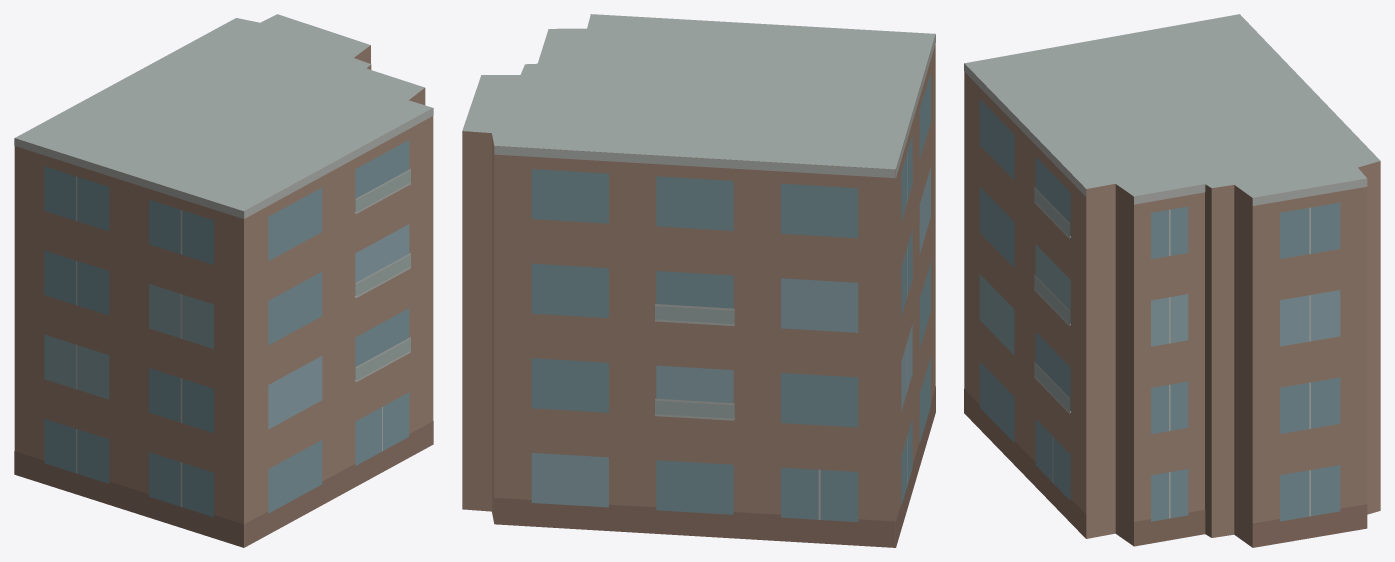
File: survey-upis-32461634.glb
The picture shows the model from 3 angles, left to right: view 1: azimuth 30°, elevation 25°; view 2: azimuth 150°, elevation 25°; view 3: azimuth 270°, elevation 25°; orthographic projection. The views are drawn at different scales.
Visible parts, largest first — view 1: survey-upis-32461634.tmp; view 2: survey-upis-32461634.tmp; view 3: survey-upis-32461634.tmp.
Part boxes in pixels (x1=…): survey-upis-32461634.tmp: x1=14, y1=14, x2=433, y2=547; survey-upis-32461634.tmp: x1=462, y1=14, x2=935, y2=547; survey-upis-32461634.tmp: x1=964, y1=14, x2=1380, y2=547.
Bounding box in the file's own units: 11.85 × 10.5 × 11.33.
